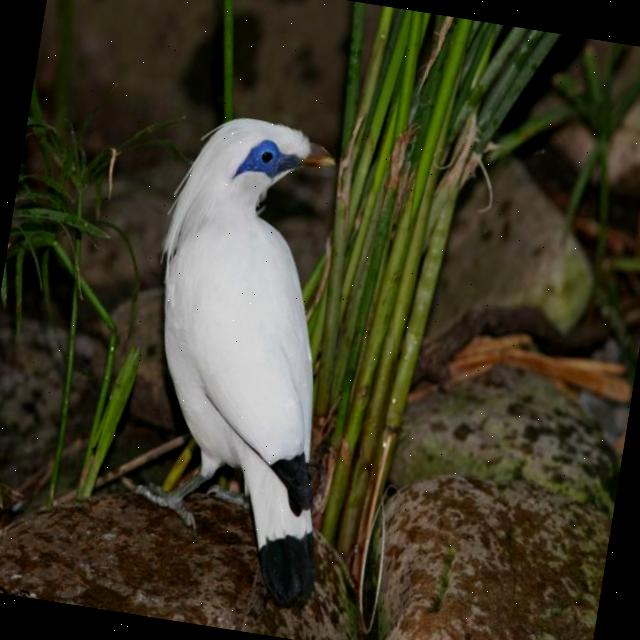Jalak Bali: (74, 76, 451, 624)
